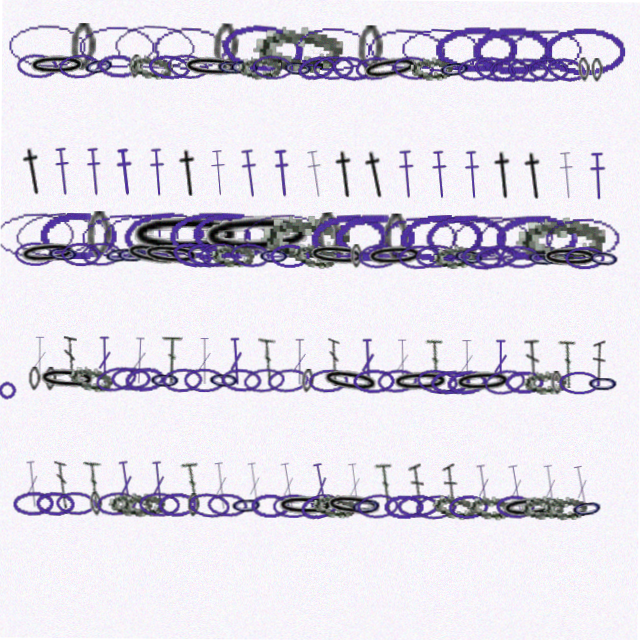chain: (196, 210, 317, 263), (125, 213, 245, 261), (11, 209, 98, 265), (471, 209, 556, 264), (218, 22, 304, 76), (121, 210, 205, 264), (98, 210, 183, 263), (515, 212, 605, 262), (77, 211, 163, 263), (251, 24, 341, 73), (397, 211, 483, 262), (362, 23, 446, 75), (396, 23, 481, 74), (110, 23, 194, 74), (190, 211, 274, 262), (240, 211, 324, 262), (260, 213, 349, 261), (308, 211, 390, 263), (448, 211, 531, 262), (377, 211, 459, 262), (424, 212, 506, 262), (541, 212, 623, 262), (432, 24, 515, 73), (494, 212, 577, 261), (148, 24, 229, 74), (290, 24, 372, 73), (168, 212, 250, 261), (4, 24, 85, 73), (469, 24, 550, 73), (333, 212, 414, 261), (74, 25, 156, 73), (541, 25, 623, 73), (504, 24, 584, 73), (38, 213, 118, 261), (0, 212, 75, 262), (357, 51, 420, 85), (122, 240, 184, 272), (320, 365, 382, 397), (17, 241, 78, 270), (325, 491, 386, 520), (140, 242, 201, 270), (501, 492, 562, 520), (306, 242, 367, 269), (364, 242, 425, 269), (453, 367, 514, 394), (179, 55, 240, 81), (37, 368, 98, 394), (391, 368, 451, 394), (299, 489, 344, 523), (25, 55, 85, 80), (540, 243, 600, 268), (68, 365, 115, 396), (94, 365, 139, 397), (277, 494, 337, 518), (293, 52, 337, 84), (470, 52, 515, 83), (314, 212, 342, 261), (483, 365, 527, 396), (291, 241, 337, 270), (431, 241, 477, 270), (433, 491, 479, 520), (521, 491, 567, 520), (170, 240, 213, 271), (210, 24, 237, 73), (328, 53, 371, 83), (543, 53, 586, 83), (126, 54, 172, 82), (164, 53, 208, 82), (68, 25, 94, 73), (355, 25, 381, 73), (416, 366, 459, 395), (145, 54, 189, 82), (313, 492, 358, 519), (352, 54, 395, 82), (454, 54, 497, 82), (243, 367, 286, 395), (267, 367, 310, 395), (189, 492, 232, 520), (416, 492, 459, 520), (86, 213, 111, 261), (383, 213, 408, 261), (185, 242, 227, 270), (446, 367, 488, 395), (235, 55, 280, 81), (122, 493, 167, 519), (469, 493, 514, 519), (544, 493, 589, 519), (474, 242, 517, 269), (358, 492, 401, 519), (390, 54, 432, 81), (229, 242, 271, 269), (357, 242, 399, 269), (124, 367, 166, 394), (377, 367, 419, 394), (97, 492, 139, 519), (56, 55, 99, 81), (397, 243, 440, 269), (407, 55, 451, 80), (523, 368, 567, 393), (110, 493, 154, 518), (14, 55, 56, 81), (95, 55, 137, 81), (505, 55, 547, 81), (80, 243, 122, 269), (460, 243, 502, 269), (162, 368, 204, 394), (221, 368, 263, 394), (208, 493, 250, 519), (525, 55, 568, 80), (308, 368, 349, 394), (430, 368, 471, 394), (210, 244, 254, 268), (310, 55, 352, 80), (414, 243, 456, 268), (353, 368, 395, 393), (140, 493, 182, 518), (398, 493, 440, 518), (449, 493, 491, 518), (79, 53, 115, 82), (250, 55, 291, 80), (199, 243, 240, 268), (499, 243, 540, 268), (111, 368, 152, 393), (14, 493, 55, 518), (57, 493, 98, 518), (14, 244, 56, 268), (559, 369, 601, 393), (274, 494, 316, 518), (37, 493, 77, 518), (159, 493, 199, 518), (497, 493, 537, 518), (60, 244, 101, 268), (269, 244, 310, 268), (564, 244, 605, 268), (184, 369, 225, 393), (102, 242, 137, 270), (571, 492, 606, 520), (487, 56, 527, 80), (505, 369, 545, 393), (252, 494, 292, 518), (385, 494, 425, 518), (435, 54, 470, 81), (451, 242, 486, 269), (350, 492, 385, 519), (586, 243, 621, 269), (279, 55, 313, 81), (525, 243, 559, 269), (213, 55, 247, 80), (539, 243, 573, 268), (231, 493, 265, 518), (226, 55, 259, 80), (46, 243, 79, 268), (208, 368, 241, 393), (115, 244, 148, 268), (257, 244, 290, 268), (149, 369, 182, 393), (587, 369, 620, 393), (90, 493, 105, 518), (575, 55, 589, 80), (301, 369, 315, 393), (127, 56, 140, 80), (551, 369, 564, 393), (589, 56, 601, 80), (350, 244, 362, 268), (29, 369, 41, 393), (45, 369, 57, 393), (189, 494, 201, 518)
double: (571, 462, 596, 512), (181, 462, 205, 512), (311, 462, 335, 512), (506, 462, 529, 512), (116, 462, 139, 511), (278, 462, 301, 511), (84, 462, 106, 511), (245, 462, 267, 511), (345, 462, 367, 511), (375, 462, 397, 511), (474, 462, 496, 511), (541, 462, 563, 511), (212, 462, 233, 511), (162, 338, 183, 386), (24, 462, 44, 511), (150, 462, 170, 511), (409, 462, 429, 511), (258, 338, 278, 386), (524, 337, 543, 386), (443, 462, 462, 511), (227, 338, 246, 386), (425, 338, 444, 386), (359, 338, 377, 386), (558, 338, 576, 386), (55, 462, 72, 511), (131, 338, 148, 386), (394, 338, 411, 386), (32, 338, 48, 386), (97, 338, 113, 386), (197, 338, 213, 386), (292, 338, 308, 386), (459, 338, 475, 386), (493, 338, 509, 386), (64, 338, 77, 386), (328, 338, 341, 386), (593, 338, 606, 386)
half_double: (357, 148, 392, 200), (15, 148, 49, 199), (328, 149, 360, 199), (517, 149, 549, 199), (172, 149, 203, 199), (487, 149, 518, 198), (301, 149, 327, 199), (236, 149, 261, 199), (50, 149, 73, 198), (112, 149, 135, 198), (206, 149, 229, 198), (394, 149, 417, 198), (554, 149, 577, 198), (82, 149, 104, 198), (270, 149, 292, 198), (428, 149, 450, 198), (146, 149, 167, 198), (461, 149, 482, 198), (586, 150, 607, 198)
noise: (0, 381, 19, 404)
